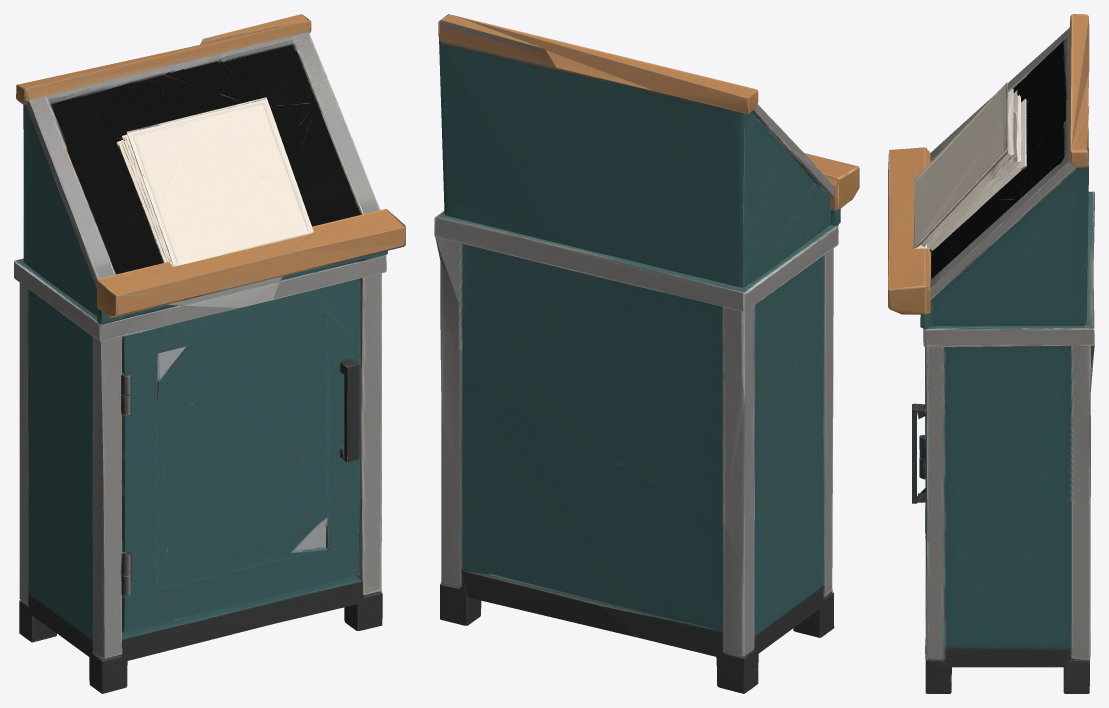
Rendered from lectern.glb.
The picture shows the model from 3 angles, left to right: view 1: azimuth 30°, elevation 25°; view 2: azimuth 150°, elevation 25°; view 3: azimuth 270°, elevation 25°; orthographic projection. The views are drawn at different scales.
Parts seen in each view (by area): view 1: Mesh_0; view 2: Mesh_0; view 3: Mesh_0.
Boxes of the visible parts, bbox=[...] form: Mesh_0: bbox=[14, 14, 405, 693]; Mesh_0: bbox=[434, 14, 859, 693]; Mesh_0: bbox=[888, 14, 1094, 693].
Size of the model in its own units: 0.55 by 0.9968 by 0.3436.
1 material, 1 textured.
